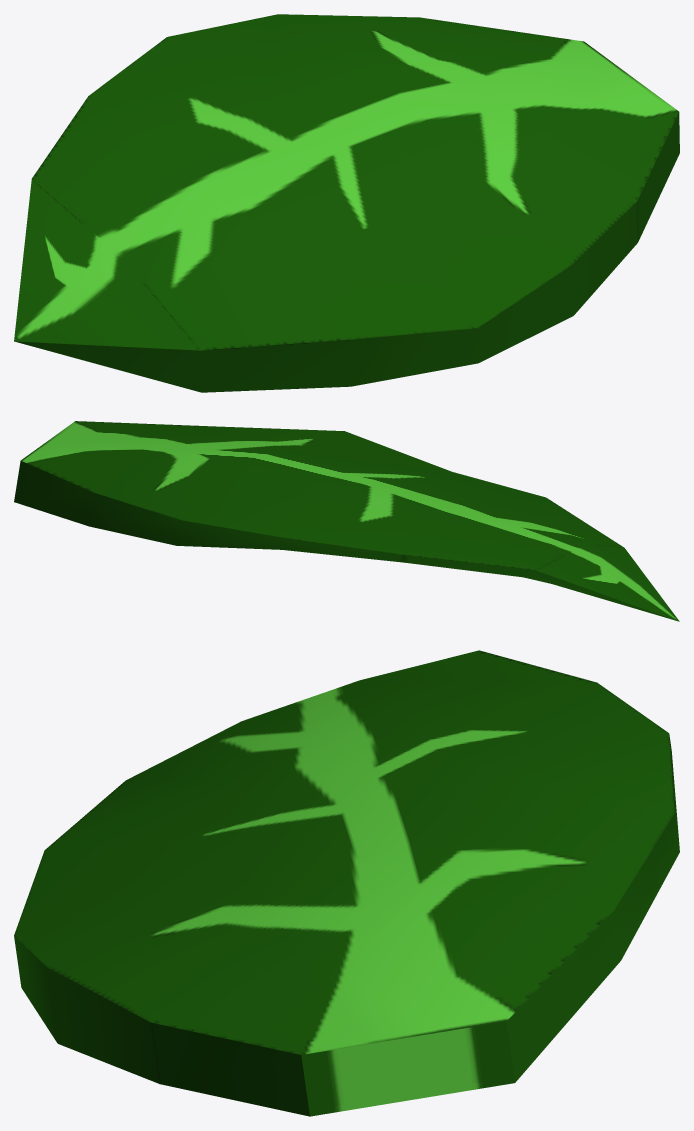
Rendered from Vegetable2.fbx.
The picture shows the model from 3 angles, top to bottom: view 1: azimuth 30°, elevation 25°; view 2: azimuth 150°, elevation 25°; view 3: azimuth 270°, elevation 25°; orthographic projection. The views are drawn at different scales.
Parts seen in each view (by area): view 1: pCube12; view 2: pCube12; view 3: pCube12.
Boxes of the visible parts, bbox=[...] form: pCube12: bbox=[14, 14, 679, 392]; pCube12: bbox=[14, 421, 679, 621]; pCube12: bbox=[14, 650, 679, 1116].
Size of the model in its own units: 1.01 by 0.2378 by 0.6562.
Materials: 1 (1 with a texture image).
